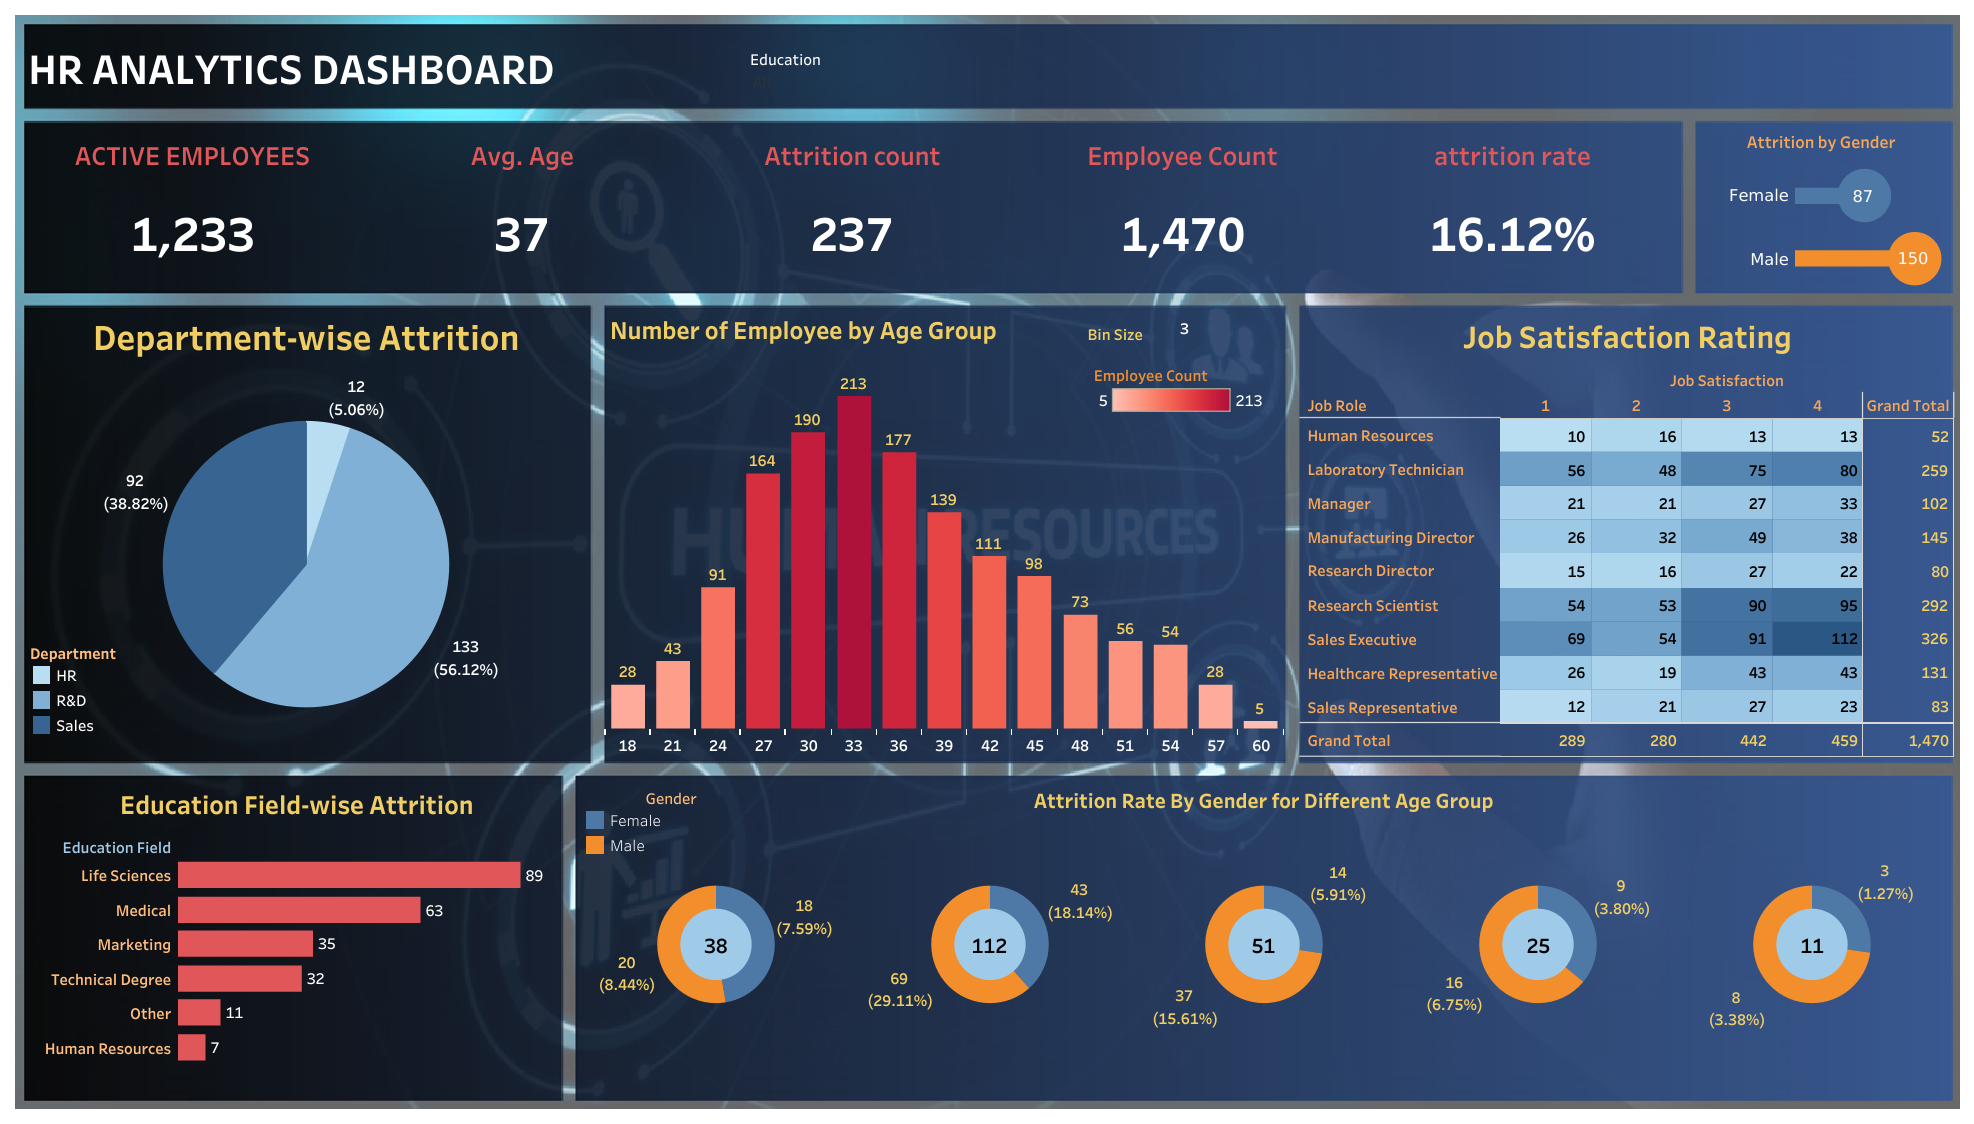

The page's visual inventory and layout, read from the dashboard file:
{"tool":"tableau","page":{"name":"HR ANALYTICS DASHBOARD","canvas":[1580,900],"ordinal":0},"visuals":[{"type":"image","param":"Image/HR background.png","box":[8,8,1564,884]},{"type":"text","box":[20,35,553,37]},{"type":"filter","title":"Attrition Rate By Gender for Different Age Group","param":"[federated.0mhxnuj0lklghu1e8cepj13ktk9y].[none:Education:nk]","box":[600,37,123,44]},{"type":"worksheet","title":"Attrition by Gender","mark":"Automatic","rows":["Gender"],"cols":["Calculation_1239334378470227968","Calculation_1239334378470227968"],"box":[1356,97,202,135]},{"type":"worksheet","title":"KPI","mark":"Automatic","box":[22,98,1320,134]},{"type":"worksheet","title":"Department-wise Attrition","mark":"Pie","box":[17,244,456,362]},{"type":"worksheet","title":"Number of Employee by Age Group","mark":"Automatic","rows":["Employee Count"],"cols":["Age (bin)"],"box":[484,244,543,361]},{"type":"worksheet","title":"Job Satisfaction Rating","mark":"Square","rows":["Job Role"],"cols":["Job Satisfaction"],"box":[1040,245,524,361]},{"type":"parameter","param":"[Parameters].[Parameter 1]","box":[870,253,150,27]},{"type":"legend","title":"Number of Employee by Age Group","param":"[federated.0mhxnuj0lklghu1e8cepj13ktk9y].[sum:Employee Count:qk]","box":[875,287,140,46]},{"type":"legend","title":"Department-wise Attrition","param":"[federated.0mhxnuj0lklghu1e8cepj13ktk9y].[none:Department:nk]","box":[23,511,111,85]},{"type":"worksheet","title":"Attrition Rate By Gender for Different Age Group","mark":"Pie","rows":["Calculation_1239334378849095685","Calculation_1239334378849095685"],"cols":["CF_age band"],"box":[463,622,1096,229]},{"type":"worksheet","title":"Education Field-wise Attrition","mark":"Automatic","rows":["Education Field"],"cols":["Calculation_1239334378470227968"],"box":[22,623,431,228]},{"type":"legend","title":"Attrition Rate By Gender for Different Age Group","param":"[federated.0mhxnuj0lklghu1e8cepj13ktk9y].[none:Gender:nk]","box":[466,627,140,64]}]}

Visuals, with their boxes in screenshot pixels (x1, y1, x2, y2), scaled from the page's 1580x900 canvas onto the 1974x1124 screenshot:
image: [x1=10, y1=10, x2=1964, y2=1114]
text: [x1=25, y1=44, x2=716, y2=90]
"Attrition Rate By Gender for Different Age Group" filter: [x1=750, y1=46, x2=903, y2=101]
"Attrition by Gender" worksheet: [x1=1694, y1=121, x2=1947, y2=290]
"KPI" worksheet: [x1=27, y1=122, x2=1677, y2=290]
"Department-wise Attrition" worksheet (Pie marks): [x1=21, y1=305, x2=591, y2=757]
"Number of Employee by Age Group" worksheet: [x1=605, y1=305, x2=1283, y2=756]
"Job Satisfaction Rating" worksheet (Square marks): [x1=1299, y1=306, x2=1954, y2=757]
parameter: [x1=1087, y1=316, x2=1274, y2=350]
"Number of Employee by Age Group" legend: [x1=1093, y1=358, x2=1268, y2=416]
"Department-wise Attrition" legend: [x1=29, y1=638, x2=167, y2=744]
"Attrition Rate By Gender for Different Age Group" worksheet (Pie marks): [x1=578, y1=777, x2=1948, y2=1063]
"Education Field-wise Attrition" worksheet: [x1=27, y1=778, x2=566, y2=1063]
"Attrition Rate By Gender for Different Age Group" legend: [x1=582, y1=783, x2=757, y2=863]
